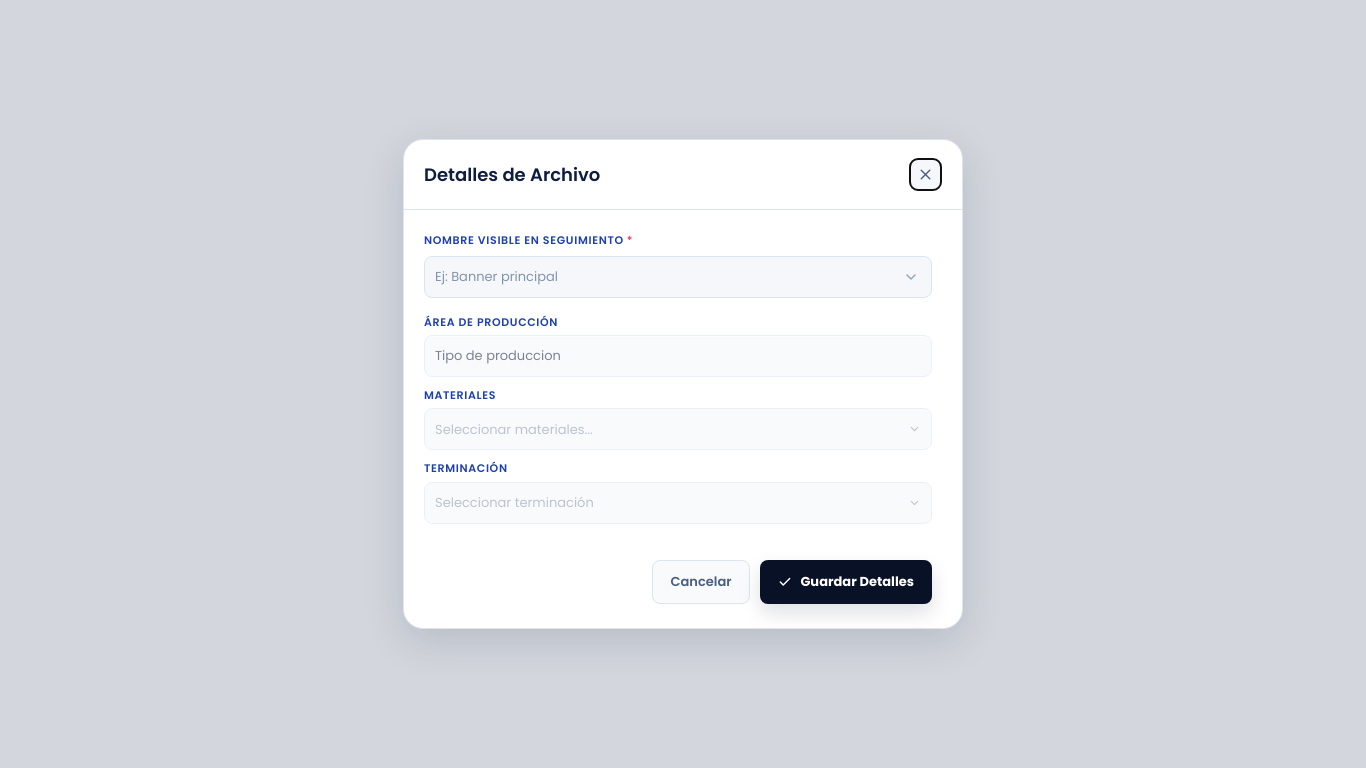
it: ProductionFileDetailsModal › does not close when required file details are missing
The width and height of the screenshot is (1366, 768).
Click the button "Guardar Detalles": (846, 582) [760, 560, 932, 604]
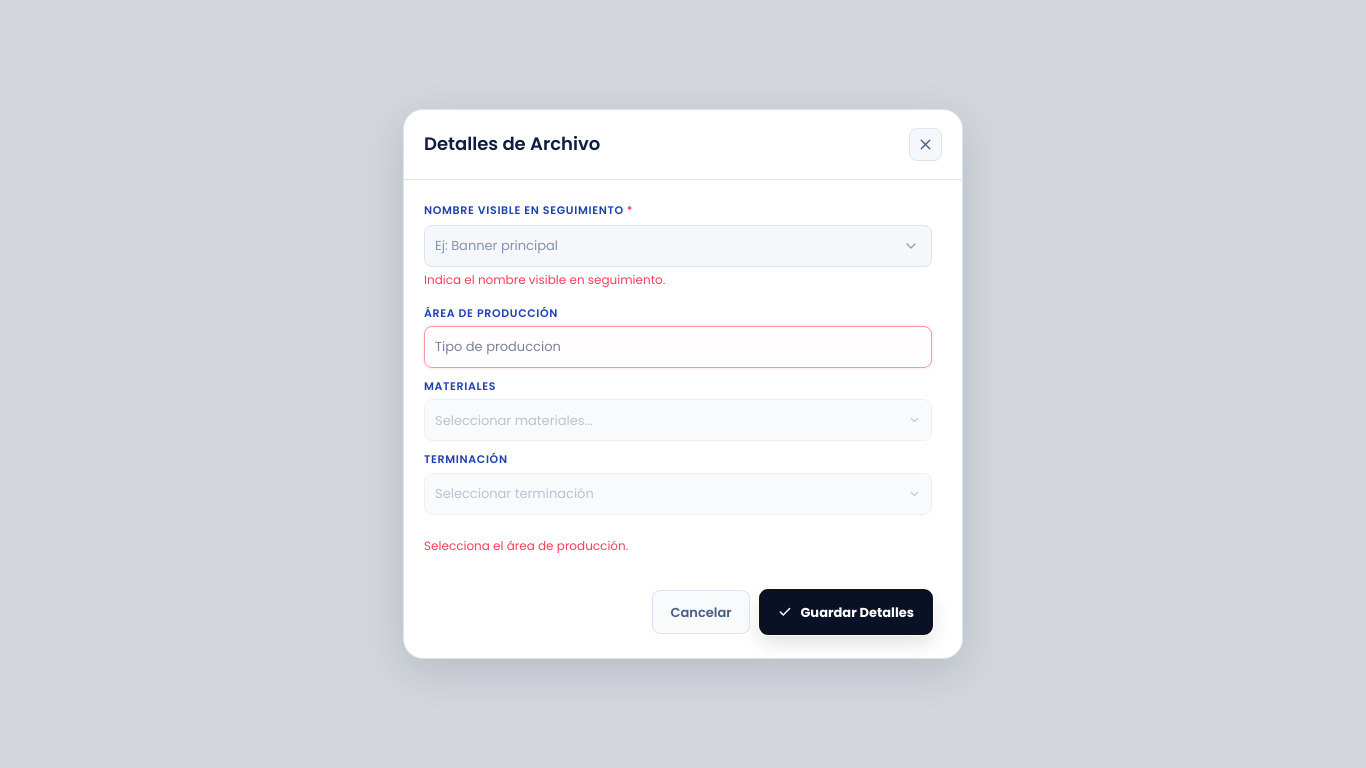
Expected: the text "Indica el nombre visible en seguimiento." is shown, [424, 271, 665, 288]
